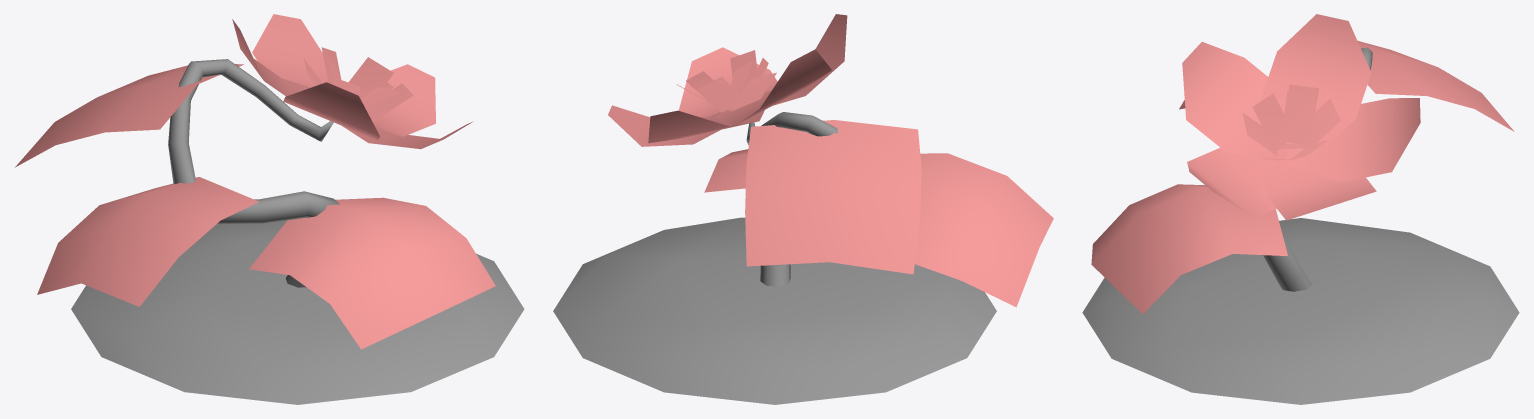
File: GrowPumkin2.fbx
3 views of the same model, side by side, from view 1: azimuth 30°, elevation 25°; view 2: azimuth 150°, elevation 25°; view 3: azimuth 270°, elevation 25° (orthographic). The views are drawn at different scales.
Parts seen in each view (by area): view 1: SM_Pumpkin_Grow02; view 2: SM_Pumpkin_Grow02; view 3: SM_Pumpkin_Grow02.
Part boxes in pixels (x1=…): SM_Pumpkin_Grow02: x1=15, y1=14, x2=524, y2=404; SM_Pumpkin_Grow02: x1=553, y1=14, x2=1053, y2=404; SM_Pumpkin_Grow02: x1=1082, y1=14, x2=1519, y2=404.
Bounding box in the file's own units: 114 × 69.15 × 99.51.
